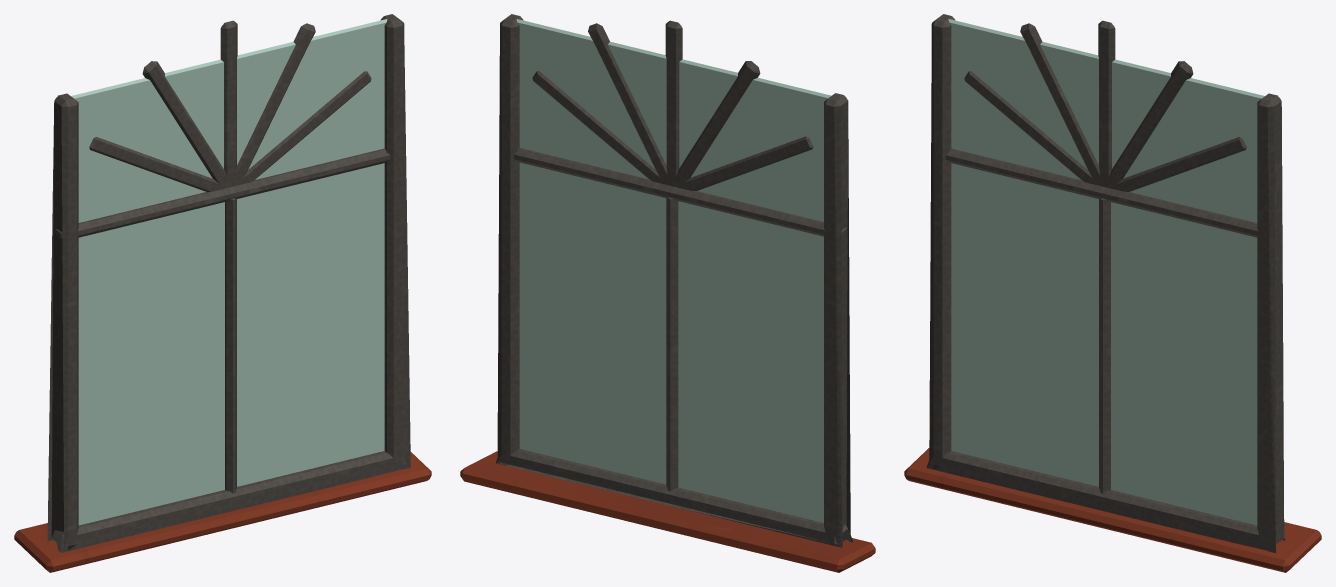
The model's file is WK_WINDOW_ARCH_A_01.glb.
3 renders of one model, left to right at view 1: azimuth 30°, elevation 25°; view 2: azimuth 150°, elevation 25°; view 3: azimuth 330°, elevation 25°, orthographic.
Parts seen in each view (by area): view 1: WK_WINDOW_ARCH_A_01; view 2: WK_WINDOW_ARCH_A_01; view 3: WK_WINDOW_ARCH_A_01.
Boxes of the visible parts, x1,y1,x2,y2 form: WK_WINDOW_ARCH_A_01: (14,14,431,572); WK_WINDOW_ARCH_A_01: (460,14,875,572); WK_WINDOW_ARCH_A_01: (904,14,1321,572).
Size of the model in its own units: 1.8 by 2.23 by 0.3002.
3 materials, 2 textured.
